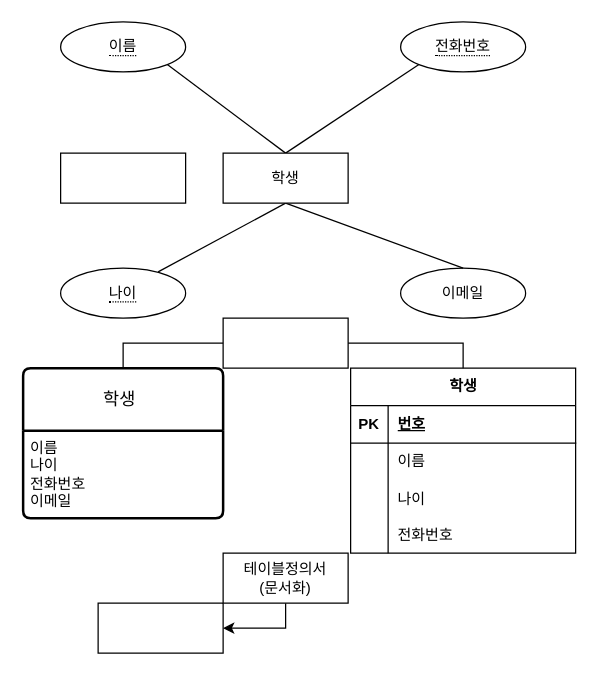
This 598x675 diagram has some shape labels left out. Each missing label, with the centre of its shape:
"개념적모델링 ERD" goes at (122,177).
"논리적모델링 RMD" goes at (285,342).
"물리적인 모델링 (Databace)" goes at (160,627).
